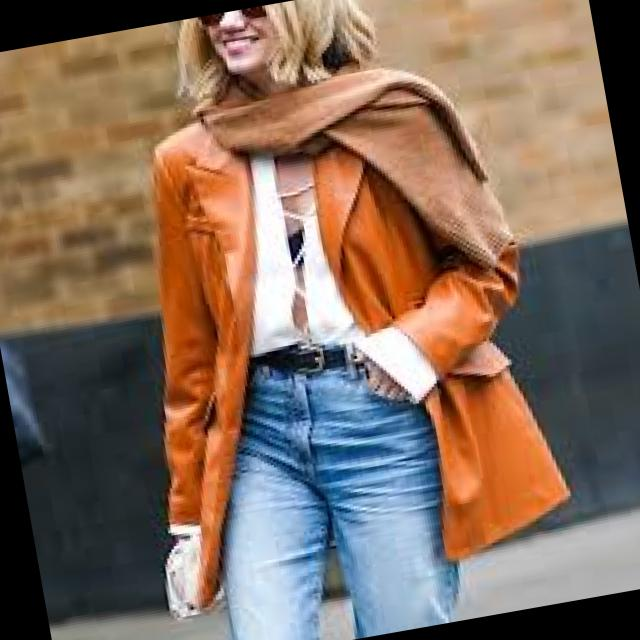Jacket: (76, 63, 583, 605)
